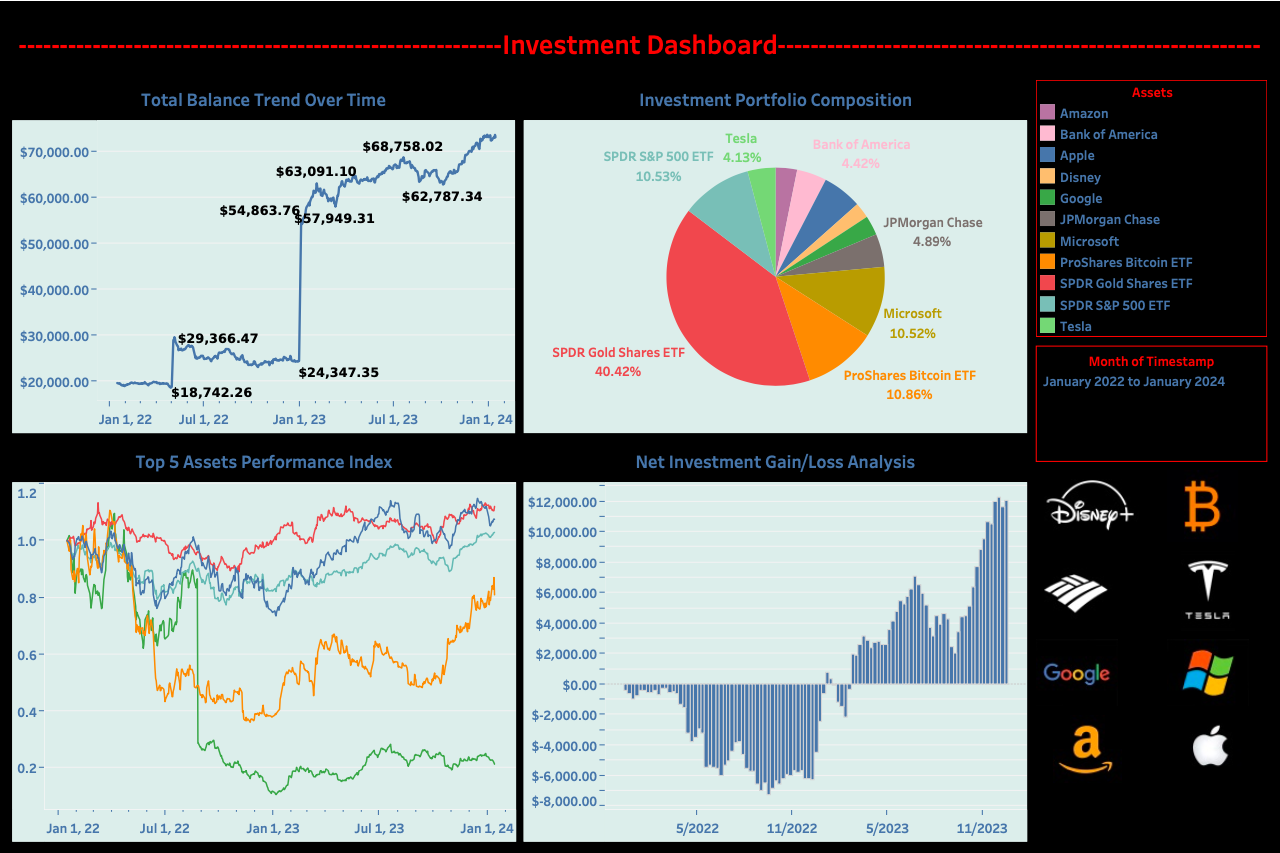

The page's visual inventory and layout, read from the dashboard file:
{"tool":"tableau","page":{"name":"Dashboard 1","canvas":[1200,800],"ordinal":0},"visuals":[{"type":"title","box":[8,8,1184,62]},{"type":"worksheet","title":"Line Graph","mark":"Line","rows":["Calculation_374995081357406219"],"cols":["timestamp"],"box":[8,70,479.5,338.9]},{"type":"worksheet","title":"Pie Chart","mark":"Pie","box":[487.5,70,479.5,338.9]},{"type":"legend","title":"Pie Chart","param":"[federated.1wic0gd0l18q8x132ezuy1whmthv].[:Measure Names]","box":[967,70,225,248]},{"type":"filter","title":"Price Chart by %","param":"[federated.1wic0gd0l18q8x132ezuy1whmthv].[tmn:timestamp:qk]","box":[967,318,225,117]},{"type":"worksheet","title":"Price Chart by %","mark":"Line","cols":["timestamp"],"box":[8,408.9,479.5,383.1]},{"type":"worksheet","title":"Profit Bar","mark":"Bar","rows":["Calculation_575968215354765344"],"cols":["timestamp"],"box":[487.5,408.9,479.5,383.1]},{"type":"image","param":"Image/dis.jpeg","box":[967,435,123,75]},{"type":"image","param":"Image/btc.jpeg","box":[1090,435,102,75]},{"type":"image","param":"Image/bac.png","box":[967,510,136,83]},{"type":"image","param":"Image/tsla.png","box":[1103,510,89,83]},{"type":"image","param":"Image/googl.jpeg","box":[967,593,123,71]},{"type":"image","param":"Image/msft.jpeg","box":[1090,593,102,71]},{"type":"image","param":"Image/amzn.jpeg","box":[967,664,112.5,128]},{"type":"image","param":"Image/aapl.jpeg","box":[1079.5,664,112.5,128]}]}

Visuals, with their boxes in screenshot pixels (x1, y1, x2, y2), scaled from the page's 1200x800 canvas onto the 1280x853 screenshot:
title: box(9, 9, 1271, 75)
"Line Graph" worksheet (Line marks): box(9, 75, 520, 436)
"Pie Chart" worksheet (Pie marks): box(520, 75, 1031, 436)
"Pie Chart" legend: box(1031, 75, 1271, 339)
"Price Chart by %" filter: box(1031, 339, 1271, 464)
"Price Chart by %" worksheet (Line marks): box(9, 436, 520, 844)
"Profit Bar" worksheet (Bar marks): box(520, 436, 1031, 844)
image: box(1031, 464, 1163, 544)
image: box(1163, 464, 1271, 544)
image: box(1031, 544, 1177, 632)
image: box(1177, 544, 1271, 632)
image: box(1031, 632, 1163, 708)
image: box(1163, 632, 1271, 708)
image: box(1031, 708, 1151, 844)
image: box(1151, 708, 1271, 844)
